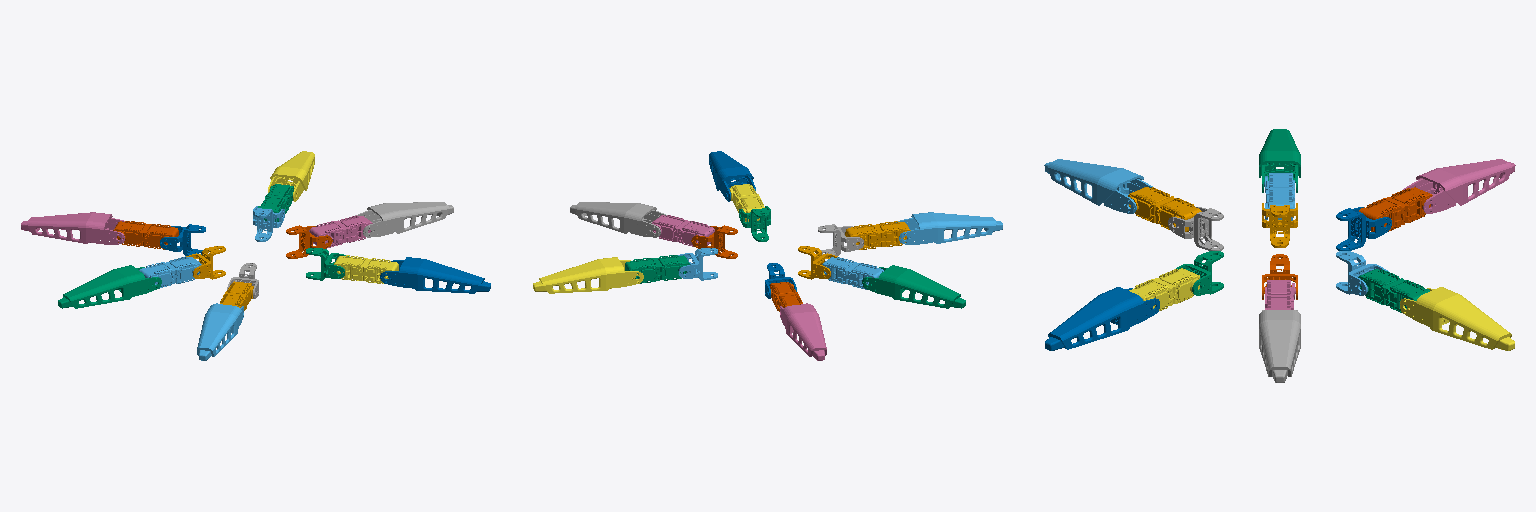
--- What the picture shows (computed from the rendered views, not written in the file) ---
Views: 3 orthographic renders of the robot side by side, from view 1: azimuth 30°, elevation 25°; view 2: azimuth 150°, elevation 25°; view 3: azimuth 270°, elevation 25°.
Model rozh_model with 19 links and 18 joints (18 continuous), rooted at prosoma_link, posed every joint at zero.
Visible links, largest first — view 1: link3_p4, link3_p6, link3_p2, link3_p5, link3_p3, link3_p1, link2_p2, link2_p4, link2_p5, link2_p6, link1_p4, link1_p5 (+5 smaller); view 2: link3_p1, link3_p6, link3_p3, link3_p5, link3_p2, link3_p4, link2_p1, link2_p3, link2_p5, link2_p6, link1_p3, link1_p1 (+5 smaller); view 3: link3_p4, link3_p1, link3_p2, link3_p3, link3_p5, link2_p3, link2_p2, link3_p6, link2_p4, link2_p1, link1_p2, link1_p3 (+6 smaller).
Link boxes in pixels (bbox=[...]): link3_p4: bbox=[380, 257, 490, 293]; link3_p6: bbox=[58, 265, 161, 308]; link3_p2: bbox=[21, 212, 124, 244]; link3_p5: bbox=[355, 202, 453, 237]; link3_p3: bbox=[197, 303, 243, 360]; link3_p1: bbox=[268, 151, 314, 201]; link2_p2: bbox=[113, 221, 178, 249]; link2_p4: bbox=[334, 255, 398, 283]; link2_p5: bbox=[309, 215, 372, 248]; link2_p6: bbox=[139, 256, 201, 288]; link1_p4: bbox=[306, 248, 348, 280]; link1_p5: bbox=[286, 225, 332, 258]; link3_p1: bbox=[533, 257, 643, 293]; link3_p6: bbox=[862, 265, 965, 308]; link3_p3: bbox=[896, 212, 1002, 244]; link3_p5: bbox=[570, 202, 666, 237]; link3_p2: bbox=[780, 303, 826, 360]; link3_p4: bbox=[709, 151, 755, 201]; link2_p1: bbox=[625, 255, 689, 283]; link2_p3: bbox=[845, 221, 910, 249]; link2_p5: bbox=[652, 215, 714, 246]; link2_p6: bbox=[822, 257, 883, 289]; link1_p3: bbox=[818, 224, 863, 255]; link1_p1: bbox=[678, 248, 717, 280]; link3_p4: bbox=[1045, 287, 1159, 350]; link3_p1: bbox=[1400, 287, 1514, 350]; link3_p2: bbox=[1403, 159, 1515, 213]; link3_p3: bbox=[1044, 159, 1152, 213]; link3_p5: bbox=[1259, 310, 1300, 382]; link2_p3: bbox=[1128, 187, 1201, 231]; link2_p2: bbox=[1359, 187, 1432, 231]; link3_p6: bbox=[1259, 129, 1300, 192]; link2_p4: bbox=[1129, 268, 1199, 310]; link2_p1: bbox=[1358, 269, 1429, 312]; link1_p2: bbox=[1336, 207, 1391, 250]; link1_p3: bbox=[1168, 207, 1223, 250].
Bounding box of the posed robot: 0.7667 × 0.6188 × 0.0485 m (x, y, z).
Meshes: 4 distinct files referenced, 18 mesh visuals loaded (3 binary STL); not drawn: 1 (reference not matched to a file when rendering).

The robot description file, URDF, robot "rozh_model":
<?xml version="1.0" encoding="utf-8" ?>
<!-- =================================================================================== -->
<!-- |    This document was autogenerated by xacro from src/rozh_support/urdf/rozh_model.xacro | -->
<!-- |    EDITING THIS FILE BY HAND IS NOT RECOMMENDED                                 | -->
<!-- =================================================================================== -->
<robot name="rozh_model">
    <link name="prosoma_link">
        <visual>
			<origin xyz="0 0 0" rpy="0 0 0"/>
            <geometry>
                <mesh filename="package://rozh_support/meshes/prosoma_fin.stl" scale="0.01 0.01 0.01"/>
            </geometry>
        </visual>
		<collision>
			<origin xyz="0 0 0" rpy="0 0 0"/>
            <geometry>
                <mesh filename="package://rozh_support/meshes/prosoma_collision.stl" scale="0.01 0.01 0.01"/>
            </geometry>
        </collision>
		<inertial>
			<origin xyz="0 0 0" rpy="0 0 0" />
            <mass value="0.533" />
              <inertia ixx="0.001985157" iyy="0.0014879510" izz="0.003307120" ixy="0.0" ixz="0.0" iyz="0.0" />
        </inertial>
    </link>
    <gazebo reference="prosoma_link">
        <selfCollide>true</selfCollide>
        <material>Gazebo/FlatBlack</material>
    </gazebo>

    <link name="link1_p1">
        <visual>
			<origin xyz="0 0 0" rpy="0 0 0"/>
            <geometry>
                <mesh filename="package://rozh_support/meshes/link1_fin.stl"  scale="0.01 0.01 0.01"/>
            </geometry>
        </visual>
        <collision>
			<origin xyz="0 0 0" rpy="0 0 0"/>
            <geometry>
                <mesh filename="package://rozh_support/meshes/link1_fin.stl"  scale="0.01 0.01 0.01"/>
            </geometry>
        </collision>        
		<inertial>
			<origin xyz="0 0 0" rpy="0 0 0" />
            <mass value="0.015" />
            <inertia ixx="0.000005905" iyy="0.00001703" izz="0.00001703" ixy="0.0" ixz="0.0" iyz="0.0" />
        </inertial>
    </link>

    <link name="link2_p1">
        <visual>
			<origin xyz="0 0 0" rpy="0 0 0"/>
            <geometry>
                <mesh filename="package://rozh_support/meshes/link2_fin.stl" scale="0.01 0.01 0.01"/>
            </geometry>
            <!-->material name="Indigo"/<!-->
        </visual>
        <collision>
			<origin xyz="0 0 0" rpy="0 0 0"/>
            <geometry>
                <mesh filename="package://rozh_support/meshes/link2_collision.stl" scale="0.01 0.01 0.01"/>
            </geometry>
        </collision>
		<inertial>
			<origin xyz="0 0 0" rpy="0 0 0" />
            <mass value="0.112" />
            <inertia ixx="0.00001853" iyy="0.000306419" izz="0.000312302" ixy="0.0" ixz="0.0" iyz="0.0" />
        </inertial>
    </link>

    <link name="link3_p1">
        <visual>
			<origin xyz="0 0 0" rpy="0 0 0"/>
            <geometry>
                <mesh filename="package://rozh_support/meshes/link3_fin.stl" scale="0.01 0.01 0.01"/>
            </geometry>
            <!-->material name="Indigo"/<!-->
        </visual>
        <collision>
			<origin xyz="0 0 0" rpy="0 0 0"/>
            <geometry>
                <mesh filename="package://rozh_support/meshes/link3_fin.stl" scale="0.01 0.01 0.01"/>
            </geometry>
        </collision>
		<inertial>
			<origin xyz="0 0 0" rpy="0 0 0" />
            <mass value="0.070" />
            <inertia ixx="0.000029395" iyy="0.000642098" izz="0.000653184" ixy="0.0" ixz="0.00001" iyz="0.0" />
        </inertial>
    </link>

    <joint name="joint1_p1" type="continuous">
        <parent link="prosoma_link" />
        <child link="link1_p1" />
        <origin rpy="0 0 0.7854" xyz="0.06 0.085 0.0012" />
        <axis xyz="0 0 1" />
    </joint>
    <joint name="joint2_p1" type="continuous">
        <parent link="link1_p1" />
        <child link="link2_p1" />
        <origin rpy="0 0 0" xyz="0.053 -0.0012 0" />
        <axis xyz="0 1 0" />
    </joint>
    <joint name="joint3_p1" type="continuous">
        <parent link="link2_p1" />
        <child link="link3_p1" />
        <origin rpy="0 0 3.14159265359" xyz="0.083 0.0012 0" />
        <axis xyz="0 1 0" />
    </joint>

    <link name="link1_p2">
        <visual>
			<origin xyz="0 0 0" rpy="0 0 0"/>
            <geometry>
                <mesh filename="package://rozh_support/meshes/link1_fin.stl"  scale="0.01 0.01 0.01"/>
            </geometry>
            <!-->material name="Indigo"/<!-->
        </visual>
        <collision>
			<origin xyz="0 0 0" rpy="0 0 0"/>
            <geometry>
                <mesh filename="package://rozh_support/meshes/link1_fin.stl"  scale="0.01 0.01 0.01"/>
            </geometry>
        </collision>
	    <inertial>
			<origin xyz="0 0 0" rpy="0 0 0" />
            <mass value="0.015" />
            <inertia ixx="0.000005905" iyy="0.00001703" izz="0.00001703" ixy="0.0" ixz="0.0" iyz="0.0" />
        </inertial>
    </link>


    <link name="link2_p2">
        <visual>
			<origin xyz="0 0 0" rpy="0 0 0"/>
            <geometry>
                <mesh filename="package://rozh_support/meshes/link2_fin.stl" scale="0.01 0.01 0.01"/>
            </geometry>
            <!-->material name="Indigo"/<!-->
        </visual>
        <collision>
			<origin xyz="0 0 0" rpy="0 0 0"/>
            <geometry>
                <mesh filename="package://rozh_support/meshes/link2_collision.stl" scale="0.01 0.01 0.01"/>
            </geometry>
        </collision>
		<inertial>
			<origin xyz="0 0 0" rpy="0 0 0" />
            <mass value="0.112" />
            <inertia ixx="0.00001853" iyy="0.000306419" izz="0.000312302" ixy="0.0" ixz="0.0" iyz="0.0" />
        </inertial>
    </link>

    <link name="link3_p2">
        <visual>
			<origin xyz="0 0 0" rpy="0 0 0"/>
            <geometry>
                <mesh filename="package://rozh_support/meshes/link3_fin.stl" scale="0.01 0.01 0.01"/>
            </geometry>
            <!-->material name="Indigo"/<!-->
        </visual>
        <collision>
			<origin xyz="0 0 0" rpy="0 0 0"/>
            <geometry>
                <mesh filename="package://rozh_support/meshes/link3_fin.stl" scale="0.01 0.01 0.01"/>
            </geometry>
        </collision>
		<inertial>
			<origin xyz="0 0 0" rpy="0 0 0" />
            <mass value="0.07" />
            <inertia ixx="0.000029395" iyy="0.000642098" izz="0.000653184" ixy="0.0" ixz="0.00001" iyz="0.0" />
        </inertial>
    </link>

    <joint name="joint1_p2" type="continuous">
        <parent link="prosoma_link" />
        <child link="link1_p2" />
        <origin rpy="0 0 2.35619449019" xyz="-0.06 0.085 0.0012" />
        <axis xyz="0 0 1" />
    </joint>
    <joint name="joint2_p2" type="continuous">
        <parent link="link1_p2" />
        <child link="link2_p2" />
        <origin rpy="0 0 0" xyz="0.053 -0.0012 0" />
        <axis xyz="0 1 0" />
    </joint>
    <joint name="joint3_p2" type="continuous">
        <parent link="link2_p2" />
        <child link="link3_p2" />
        <origin rpy="0 0 3.14159265359" xyz="0.083 0.0012 0" />
        <axis xyz="0 1 0" />
    </joint>


    <link name="link1_p3">
        <visual>
			<origin xyz="0 0 0" rpy="0 0 0"/>
            <geometry>
                <mesh filename="package://rozh_support/meshes/link1_fin.stl"  scale="0.01 0.01 0.01"/>
            </geometry>
            <!-->material name="Indigo"/<!-->
        </visual>
        <collision>
			<origin xyz="0 0 0" rpy="0 0 0"/>
            <geometry>
                <mesh filename="package://rozh_support/meshes/link1_fin.stl"  scale="0.01 0.01 0.01"/>
            </geometry>
        </collision>
       
	    <inertial>
			<origin xyz="0 0 0" rpy="0 0 0" />
            <mass value="0.015" />
            <inertia ixx="0.000005905" iyy="0.00001703" izz="0.00001703" ixy="0.0" ixz="0.0" iyz="0.0" />
        </inertial>
	</link>

    <link name="link2_p3">
        <visual>
			<origin xyz="0 0 0" rpy="0 0 0"/>
            <geometry>
                <mesh filename="package://rozh_support/meshes/link2_fin.stl" scale="0.01 0.01 0.01"/>
            </geometry>
            <!-->material name="Indigo"/<!-->
        </visual>
        <collision>
			<origin xyz="0 0 0" rpy="0 0 0"/>
            <geometry>
                <mesh filename="package://rozh_support/meshes/link2_collision.stl" scale="0.01 0.01 0.01"/>
            </geometry>
        </collision>
		<inertial>
			<origin xyz="0 0 0" rpy="0 0 0" />
            <mass value="0.112" />
            <inertia ixx="0.00001853" iyy="0.000306419" izz="0.000312302" ixy="0.0" ixz="0.0" iyz="0.0" />
        </inertial>
    </link>

    <link name="link3_p3">
        <visual>
			<origin xyz="0 0 0" rpy="0 0 0"/>
            <geometry>
                <mesh filename="package://rozh_support/meshes/link3_fin.stl" scale="0.01 0.01 0.01"/>
            </geometry>
            <!-->material name="Indigo"/<!-->
        </visual>
        <collision>
			<origin xyz="0 0 0" rpy="0 0 0"/>
            <geometry>
                <mesh filename="package://rozh_support/meshes/link3_fin.stl" scale="0.01 0.01 0.01"/>
            </geometry>
        </collision>
		<inertial>
			<origin xyz="0 0 0" rpy="0 0 0" />
            <mass value="0.07" />
            <inertia ixx="0.000029395" iyy="0.000642098" izz="0.000653184" ixy="0.0" ixz="0.00001" iyz="0.0" />
        </inertial>
    </link>

    <joint name="joint1_p3" type="continuous">
        <parent link="prosoma_link" />
        <child link="link1_p3" />
        <origin rpy="0 0 -2.35619449019" xyz="-0.06 -0.085 0.0012" />
        <axis xyz="0 0 1" />
    </joint>
    <joint name="joint2_p3" type="continuous">
        <parent link="link1_p3" />
        <child link="link2_p3" />
        <origin rpy="0 0 0" xyz="0.053 -0.0012 0" />
        <axis xyz="0 1 0" />
    </joint>
    <joint name="joint3_p3" type="continuous">
        <parent link="link2_p3" />
        <child link="link3_p3" />
        <origin rpy="0 0 3.14159265359" xyz="0.083 0.0012 0" />
        <axis xyz="0 1 0" />
    </joint>


    <link name="link1_p4">
        <visual>
			<origin xyz="0 0 0" rpy="0 0 0"/>
            <geometry>
                <mesh filename="package://rozh_support/meshes/link1_fin.stl"  scale="0.01 0.01 0.01"/>
            </geometry>
            <!-->material name="Indigo"/<!-->
        </visual>
        <collision>
			<origin xyz="0 0 0" rpy="0 0 0"/>
            <geometry>
                <mesh filename="package://rozh_support/meshes/link1_fin.stl"  scale="0.01 0.01 0.01"/>
            </geometry>
        </collision>

	    <inertial>
			<origin xyz="0 0 0" rpy="0 0 0" />
            <mass value="0.015" />
            <inertia ixx="0.000005905" iyy="0.00001703" izz="0.00001703" ixy="0.0" ixz="0.0" iyz="0.0" />
        </inertial>
    </link>

    <link name="link2_p4">
        <visual>
			<origin xyz="0 0 0" rpy="0 0 0"/>
            <geometry>
                <mesh filename="package://rozh_support/meshes/link2_fin.stl" scale="0.01 0.01 0.01"/>
            </geometry>
            <!-->material name="Indigo"/<!-->
        </visual>
        <collision>
			<origin xyz="0 0 0" rpy="0 0 0"/>
            <geometry>
                <mesh filename="package://rozh_support/meshes/link2_collision.stl" scale="0.01 0.01 0.01"/>
            </geometry>
        </collision>
		<inertial>
			<origin xyz="0 0 0" rpy="0 0 0" />
            <mass value="0.112" />
            <inertia ixx="0.00001853" iyy="0.000306419" izz="0.000312302" ixy="0.0" ixz="0.0" iyz="0.0" />
        </inertial>
    </link>

    <link name="link3_p4">
        <visual>
			<origin xyz="0 0 0" rpy="0 0 0"/>
            <geometry>
                <mesh filename="package://rozh_support/meshes/link3_fin.stl" scale="0.01 0.01 0.01"/>
            </geometry>
            <!-->material name="Indigo"/<!-->
        </visual>
        <collision>
			<origin xyz="0 0 0" rpy="0 0 0"/>
            <geometry>
                <mesh filename="package://rozh_support/meshes/link3_fin.stl" scale="0.01 0.01 0.01"/>
            </geometry>
        </collision>
		<inertial>
			<origin xyz="0 0 0" rpy="0 0 0" />
            <mass value="0.07" />
            <inertia ixx="0.000029395" iyy="0.000642098" izz="0.000653184" ixy="0.0" ixz="0.00001" iyz="0.0" />
        </inertial>
    </link>
    
    <joint name="joint1_p4" type="continuous">
        <parent link="prosoma_link" />
        <child link="link1_p4" />
        <origin rpy="0 0 -0.7854" xyz="0.06 -0.085 0.0012" />
        <axis xyz="0 0 1" />
    </joint>
    <joint name="joint2_p4" type="continuous">
        <parent link="link1_p4" />
        <child link="link2_p4" />
        <origin rpy="0 0 0" xyz="0.053 -0.0012 0" />
        <axis xyz="0 1 0" />
    </joint>
    <joint name="joint3_p4" type="continuous">
        <parent link="link2_p4" />
        <child link="link3_p4" />
        <origin rpy="0 0 3.14159265359" xyz="0.083 0.0012 0" />
        <axis xyz="0 1 0" />
    </joint>

    <link name="link1_p5">
        <visual>
			<origin xyz="0 0 0" rpy="0 0 0"/>
            <geometry>
                <mesh filename="package://rozh_support/meshes/link1_fin.stl"  scale="0.01 0.01 0.01"/>
            </geometry>
            <!-->material name="Indigo"/<!-->
        </visual>
        <collision>
			<origin xyz="0 0 0" rpy="0 0 0"/>
            <geometry>
                <mesh filename="package://rozh_support/meshes/link1_fin.stl"  scale="0.01 0.01 0.01"/>
            </geometry>
        </collision>
        
	    <inertial>
			<origin xyz="0 0 0" rpy="0 0 0" />
            <mass value="0.015" />
            <inertia ixx="0.000005905" iyy="0.00001703" izz="0.00001703" ixy="0.0" ixz="0.0" iyz="0.0" />
        </inertial>
    </link>

    <link name="link2_p5">
        <visual>
			<origin xyz="0 0 0" rpy="0 0 0"/>
            <geometry>
                <mesh filename="package://rozh_support/meshes/link2_fin.stl" scale="0.01 0.01 0.01"/>
            </geometry>
            <!-->material name="Indigo"/<!-->
        </visual>
        <collision>
			<origin xyz="0 0 0" rpy="0 0 0"/>
            <geometry>
                <mesh filename="package://rozh_support/meshes/link2_collision.stl" scale="0.01 0.01 0.01"/>
            </geometry>
        </collision>
		<inertial>
			<origin xyz="0 0 0" rpy="0 0 0" />
            <mass value="0.112" />
            <inertia ixx="0.00001853" iyy="0.000306419" izz="0.000312302" ixy="0.0" ixz="0.0" iyz="0.0" />
        </inertial>
    </link>

    <link name="link3_p5">
        <visual>
			<origin xyz="0 0 0" rpy="0 0 0"/>
            <geometry>
                <mesh filename="package://rozh_support/meshes/link3_fin.stl" scale="0.01 0.01 0.01"/>
            </geometry>
            <!-->material name="Indigo"/<!-->
        </visual>
        <collision>
			<origin xyz="0 0 0" rpy="0 0 0"/>
            <geometry>
                <mesh filename="package://rozh_support/meshes/link3_fin.stl" scale="0.01 0.01 0.01"/>
            </geometry>
        </collision>
		<inertial>
			<origin xyz="0 0 0" rpy="0 0 0" />
            <mass value="0.07" />
            <inertia ixx="0.000029395" iyy="0.000642098" izz="0.000653184" ixy="0.0" ixz="0.00001" iyz="0.0" />
        </inertial>
    </link>
    
    <joint name="joint1_p5" type="continuous">
        <parent link="prosoma_link" />
        <child link="link1_p5" />
        <origin rpy="0 0 0" xyz="0.07125 0 0.0012" />
        <axis xyz="0 0 1" />
    </joint>
    <joint name="joint2_p5" type="continuous">
        <parent link="link1_p5" />
        <child link="link2_p5" />
        <origin rpy="0 0 0" xyz="0.053 -0.0012 0" />
        <axis xyz="0 1 0" />
    </joint>
    <joint name="joint3_p5" type="continuous">
        <parent link="link2_p5" />
        <child link="link3_p5" />
        <origin rpy="0 0 3.14159265359" xyz="0.083 0.0012 0" />
        <axis xyz="0 1 0" />
    </joint>


    <link name="link1_p6">
        <visual>
			<origin xyz="0 0 0" rpy="0 0 0"/>
            <geometry>
                <mesh filename="package://rozh_support/meshes/link1_fin.stl"  scale="0.01 0.01 0.01"/>
            </geometry>
            <!-->material name="Indigo"/<!-->
        </visual>
        <collision>
			<origin xyz="0 0 0" rpy="0 0 0"/>
            <geometry>
                <mesh filename="package://rozh_support/meshes/link1_fin.stl"  scale="0.01 0.01 0.01"/>
            </geometry>
        </collision>
        
	    <inertial>
			<origin xyz="0 0 0" rpy="0 0 0" />
            <mass value="0.015" />
            <inertia ixx="0.000005905" iyy="0.00001703" izz="0.00001703" ixy="0.0" ixz="0.0" iyz="0.0" />
        </inertial>
    </link>

    <link name="link2_p6">
        <visual>
			<origin xyz="0 0 0" rpy="0 0 0"/>
            <geometry>
                <mesh filename="package://rozh_support/meshes/link2_fin.stl" scale="0.01 0.01 0.01"/>
            </geometry>
            <!-->material name="Indigo"/<!-->
        </visual>
        <collision>
			<origin xyz="0 0 0" rpy="0 0 0"/>
            <geometry>
                <mesh filename="package://rozh_support/meshes/link2_collision.stl" scale="0.01 0.01 0.01"/>
            </geometry>
        </collision>
		<inertial>
			<origin xyz="0 0 0" rpy="0 0 0" />
            <mass value="0.112" />
            <inertia ixx="0.00001853" iyy="0.000306419" izz="0.000312302" ixy="0.0" ixz="0.0" iyz="0.0" />
        </inertial>
    </link>

    <link name="link3_p6">
        <visual>
			<origin xyz="0 0 0" rpy="0 0 0"/>
            <geometry>
                <mesh filename="package://rozh_support/meshes/link3_fin.stl" scale="0.01 0.01 0.01"/>
            </geometry>
            <!-->material name="Indigo"/<!-->
        </visual>
        <collision>
			<origin xyz="0 0 0" rpy="0 0 0"/>
            <geometry>
                <mesh filename="package://rozh_support/meshes/link3_fin.stl" scale="0.01 0.01 0.01"/>
            </geometry>
        </collision>
		<inertial>
			<origin xyz="0 0 0" rpy="0 0 0" />
            <mass value="0.070" />
            <inertia ixx="0.000029395" iyy="0.000642098" izz="0.000653184" ixy="0.0" ixz="0.00001" iyz="0.0" />
        </inertial>
    </link>

    <joint name="joint1_p6" type="continuous">
        <parent link="prosoma_link" />
        <child link="link1_p6" />
        <origin rpy="0 0 3.14159265359" xyz="-0.07125 0 0.0012" />
        <axis xyz="0 0 1" />
    </joint>
    <joint name="joint2_p6" type="continuous">
        <parent link="link1_p6" />
        <child link="link2_p6" />
        <origin rpy="0 0 0" xyz="0.053 -0.0012 0" />
        <axis xyz="0 1 0" />
    </joint>
    <joint name="joint3_p6" type="continuous">
        <parent link="link2_p6" />
        <child link="link3_p6" />
        <origin rpy="0 0 3.14159265359" xyz="0.083 0.0012 0" />
        <axis xyz="0 1 0" />
    </joint>
   

   <transmission name="trans_joint1_p1">
        <type>transmission_interface/SimpleTransmission</type>
        <joint name="joint1_p1">
            <hardwareInterface>hardware_interface/EffortJointInterface</hardwareInterface>
        </joint>
        <actuator name="joint1_p1_motor">
            <mechanicalReduction>1</mechanicalReduction>
        </actuator>
    </transmission>
    <transmission name="trans_joint2_p1">
        <type>transmission_interface/SimpleTransmission</type>
        <joint name="joint2_p1">
            <hardwareInterface>hardware_interface/EffortJointInterface</hardwareInterface>
        </joint>
        <actuator name="joint2_p1_motor">
            <mechanicalReduction>1</mechanicalReduction>
        </actuator>
    </transmission>
    <transmission name="trans_joint3_p1">
        <type>transmission_interface/SimpleTransmission</type>
        <joint name="joint3_p1">
            <hardwareInterface>hardware_interface/EffortJointInterface</hardwareInterface>
        </joint>
        <actuator name="joint3_p1_motor">
            <mechanicalReduction>1</mechanicalReduction>
        </actuator>
    </transmission>
    <transmission name="trans_joint1_p2">
        <type>transmission_interface/SimpleTransmission</type>
        <joint name="joint1_p2">
            <hardwareInterface>hardware_interface/EffortJointInterface</hardwareInterface>
        </joint>
        <actuator name="joint1_p2_motor">
            <mechanicalReduction>1</mechanicalReduction>
        </actuator>
    </transmission>
    <transmission name="trans_joint2_p2">
        <type>transmission_interface/SimpleTransmission</type>
        <joint name="joint2_p2">
            <hardwareInterface>hardware_interface/EffortJointInterface</hardwareInterface>
        </joint>
        <actuator name="joint2_p2_motor">
            <mechanicalReduction>1</mechanicalReduction>
        </actuator>
    </transmission>
    <transmission name="trans_joint3_p2">
        <type>transmission_interface/SimpleTransmission</type>
        <joint name="joint3_p2">
            <hardwareInterface>hardware_interface/EffortJointInterface</hardwareInterface>
        </joint>
        <actuator name="joint3_p2_motor">
            <mechanicalReduction>1</mechanicalReduction>
        </actuator>
    </transmission>
    <transmission name="trans_joint1_p3">
        <type>transmission_interface/SimpleTransmission</type>
        <joint name="joint1_p3">
            <hardwareInterface>hardware_interface/EffortJointInterface</hardwareInterface>
        </joint>
        <actuator name="joint1_p3_motor">
            <mechanicalReduction>1</mechanicalReduction>
        </actuator>
    </transmission>
    <transmission name="trans_joint2_p3">
        <type>transmission_interface/SimpleTransmission</type>
        <joint name="joint2_p3">
            <hardwareInterface>hardware_interface/EffortJointInterface</hardwareInterface>
        </joint>
        <actuator name="joint2_p3_motor">
            <mechanicalReduction>1</mechanicalReduction>
        </actuator>
    </transmission>
    <transmission name="trans_joint3_p3">
        <type>transmission_interface/SimpleTransmission</type>
        <joint name="joint3_p3">
            <hardwareInterface>hardware_interface/EffortJointInterface</hardwareInterface>
        </joint>
        <actuator name="joint3_p3_motor">
            <mechanicalReduction>1</mechanicalReduction>
        </actuator>
    </transmission>
    <transmission name="trans_joint1_p4">
        <type>transmission_interface/SimpleTransmission</type>
        <joint name="joint1_p4">
            <hardwareInterface>hardware_interface/EffortJointInterface</hardwareInterface>
        </joint>
        <actuator name="joint1_p4_motor">
            <mechanicalReduction>1</mechanicalReduction>
        </actuator>
    </transmission>
    <transmission name="trans_joint2_p4">
        <type>transmission_interface/SimpleTransmission</type>
        <joint name="joint2_p4">
            <hardwareInterface>hardware_interface/EffortJointInterface</hardwareInterface>
        </joint>
        <actuator name="joint2_p4_motor">
            <mechanicalReduction>1</mechanicalReduction>
        </actuator>
    </transmission>
    <transmission name="trans_joint3_p4">
        <type>transmission_interface/SimpleTransmission</type>
        <joint name="joint3_p4">
            <hardwareInterface>hardware_interface/EffortJointInterface</hardwareInterface>
        </joint>
        <actuator name="joint3_p4_motor">
            <mechanicalReduction>1</mechanicalReduction>
        </actuator>
    </transmission>
    <transmission name="trans_joint1_p5">
        <type>transmission_interface/SimpleTransmission</type>
        <joint name="joint1_p5">
            <hardwareInterface>hardware_interface/EffortJointInterface</hardwareInterface>
        </joint>
        <actuator name="joint1_p5_motor">
            <mechanicalReduction>1</mechanicalReduction>
        </actuator>
    </transmission>
    <transmission name="trans_joint2_p5">
        <type>transmission_interface/SimpleTransmission</type>
        <joint name="joint2_p5">
            <hardwareInterface>hardware_interface/EffortJointInterface</hardwareInterface>
        </joint>
        <actuator name="joint2_p5_motor">
            <mechanicalReduction>1</mechanicalReduction>
        </actuator>
    </transmission>
    <transmission name="trans_joint3_p5">
        <type>transmission_interface/SimpleTransmission</type>
        <joint name="joint3_p5">
            <hardwareInterface>hardware_interface/EffortJointInterface</hardwareInterface>
        </joint>
        <actuator name="joint3_p5_motor">
            <mechanicalReduction>1</mechanicalReduction>
        </actuator>
    </transmission>
    <transmission name="trans_joint1_p6">
        <type>transmission_interface/SimpleTransmission</type>
        <joint name="joint1_p6">
            <hardwareInterface>hardware_interface/EffortJointInterface</hardwareInterface>
        </joint>
        <actuator name="joint1_p6_motor">
            <mechanicalReduction>1</mechanicalReduction>
        </actuator>
    </transmission>
    <transmission name="trans_joint2_p6">
        <type>transmission_interface/SimpleTransmission</type>
        <joint name="joint2_p6">
            <hardwareInterface>hardware_interface/EffortJointInterface</hardwareInterface>
        </joint>
        <actuator name="joint2_p6_motor">
            <mechanicalReduction>1</mechanicalReduction>
        </actuator>
    </transmission>
    <transmission name="trans_joint3_p6">
        <type>transmission_interface/SimpleTransmission</type>
        <joint name="joint3_p6">
            <hardwareInterface>hardware_interface/EffortJointInterface</hardwareInterface>
        </joint>
        <actuator name="joint3_p6_motor">
            <mechanicalReduction>1</mechanicalReduction>
        </actuator>
    </transmission>

    <gazebo reference="link1_p1">
        <selfCollide>true</selfCollide>
        <material>Gazebo/Indigo</material>
    </gazebo>
    <gazebo reference="link2_p1">
        <selfCollide>true</selfCollide>
        <material>Gazebo/FlatBlack</material>
    </gazebo>
    <gazebo reference="link3_p1">
        <selfCollide>true</selfCollide>
        <material>Gazebo/Indigo</material>
    </gazebo>

    <gazebo reference="link1_p2">
        <selfCollide>true</selfCollide>
        <material>Gazebo/Indigo</material>
    </gazebo>
    <gazebo reference="link2_p2">
        <selfCollide>true</selfCollide>
        <material>Gazebo/FlatBlack</material>
    </gazebo>
    <gazebo reference="link3_p2">
        <selfCollide>true</selfCollide>
        <material>Gazebo/Indigo</material>
    </gazebo>

    <gazebo reference="link1_p3">
        <selfCollide>true</selfCollide>
        <material>Gazebo/Indigo</material>
    </gazebo>
    <gazebo reference="link2_p3">
        <selfCollide>true</selfCollide>
        <material>Gazebo/FlatBlack</material>
    </gazebo>
    <gazebo reference="link3_p3">
        <selfCollide>true</selfCollide>
        <material>Gazebo/Indigo</material>
    </gazebo>

    <gazebo reference="link1_p4">
        <selfCollide>true</selfCollide>
        <material>Gazebo/Indigo</material>
    </gazebo>
    <gazebo reference="link2_p4">
        <selfCollide>true</selfCollide>
        <material>Gazebo/FlatBlack</material>
    </gazebo>
    <gazebo reference="link3_p4">
        <selfCollide>true</selfCollide>
        <material>Gazebo/Indigo</material>
    </gazebo>

    <gazebo reference="link1_p5">
        <selfCollide>true</selfCollide>
        <material>Gazebo/Indigo</material>
    </gazebo>
    <gazebo reference="link2_p5">
        <selfCollide>true</selfCollide>
        <material>Gazebo/FlatBlack</material>
    </gazebo>
    <gazebo reference="link3_p5">
        <selfCollide>true</selfCollide>
        <material>Gazebo/Indigo</material>
    </gazebo>

    <gazebo reference="link1_p6">
        <selfCollide>true</selfCollide>
        <material>Gazebo/Indigo</material>
    </gazebo>
    <gazebo reference="link2_p6">
        <selfCollide>true</selfCollide>
        <material>Gazebo/FlatBlack</material>
    </gazebo>
    <gazebo reference="link3_p6">
        <selfCollide>true</selfCollide>
        <material>Gazebo/Indigo</material>
    </gazebo>

    <gazebo>
        <selfCollide>1</selfCollide>
        <plugin name="gazebo_ros_control" filename="libgazebo_ros_control.so">
            <robotNamespace>/</robotNamespace>
        </plugin>
    </gazebo>

</robot>
